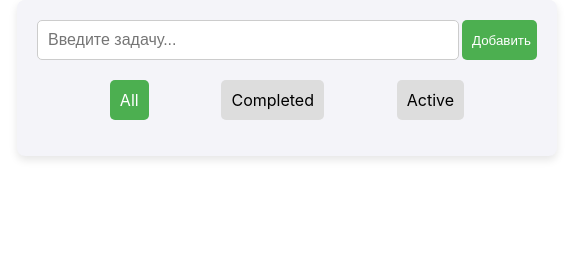
Test case: Todo component › should add a task to the list when input is provided and button is clicked
Type "Test Task" into the field with placeholder "Введите задачу..." at (248, 40), box 37,20 -> 459,60
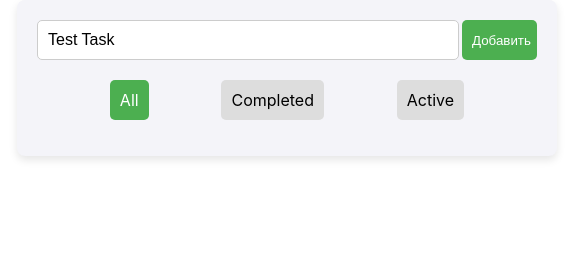
Click the button "Добавить" at (500, 40), box 462,20 -> 537,60
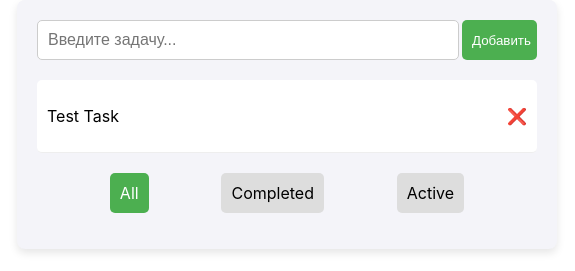
Result: the text "Test Task" is shown at 47,106 -> 119,126
